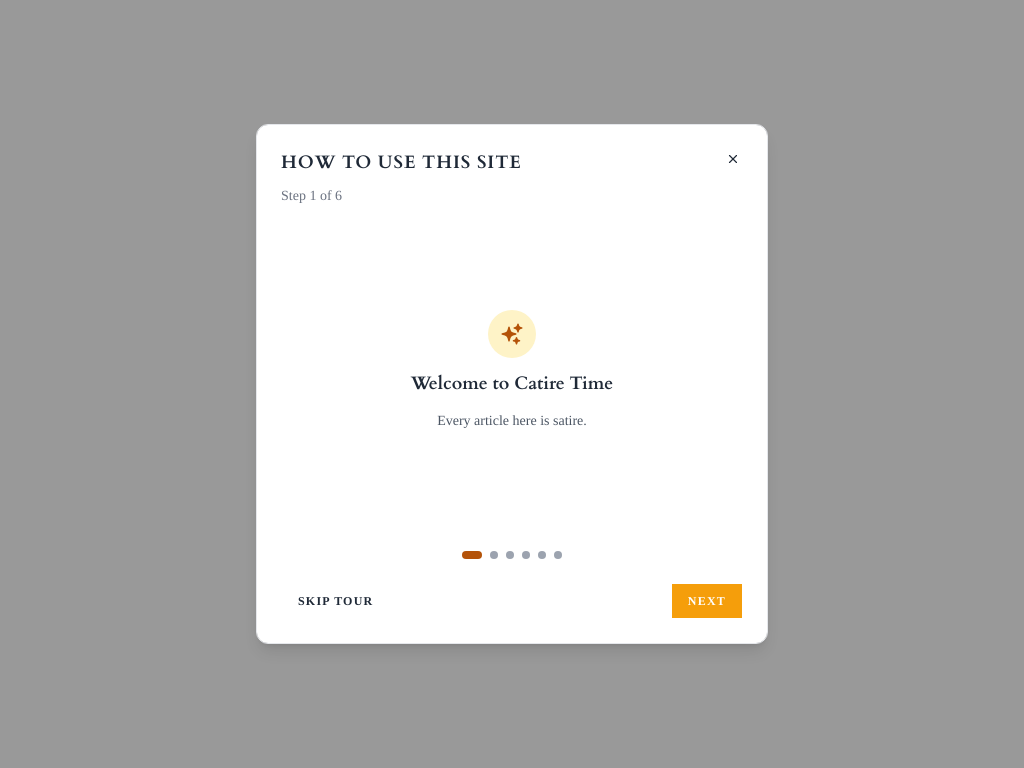
it: OnboardingTour — navigation › a dot jumps straight to its slide
Click the button named "Go to step" at x=526, y=555, box [522,551,530,559]
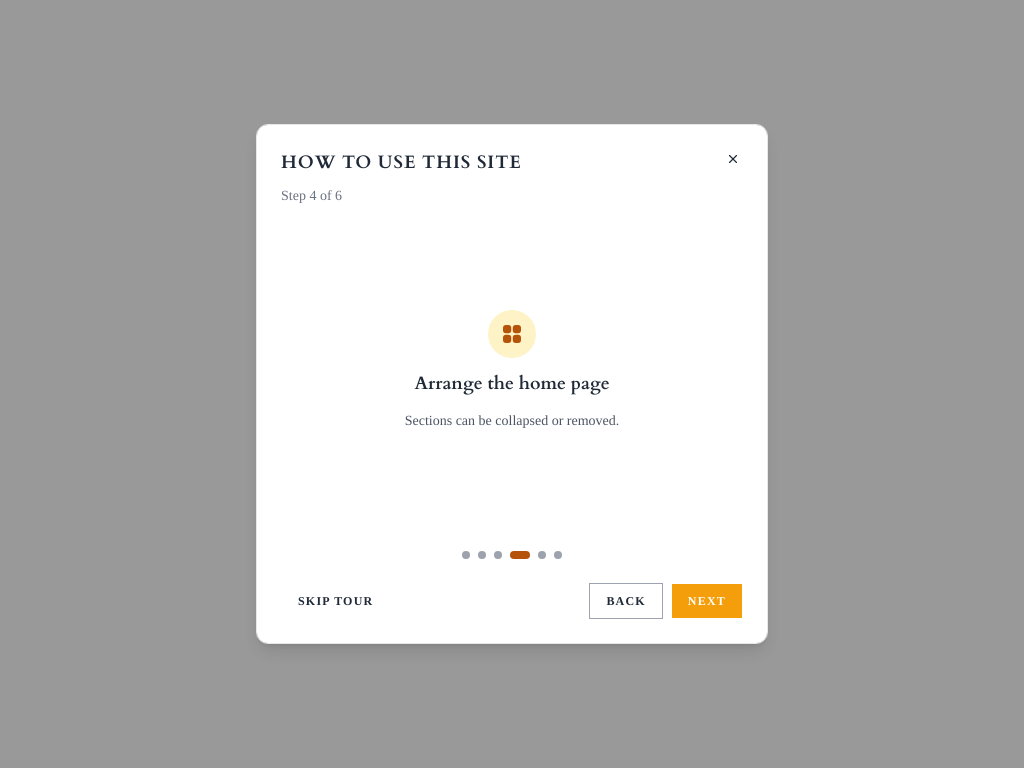
Now the heading "Arrange the home page" is shown, box [414,370,610,398]
Now the text "Step 4 of 6" is shown, box [281,188,342,203]
